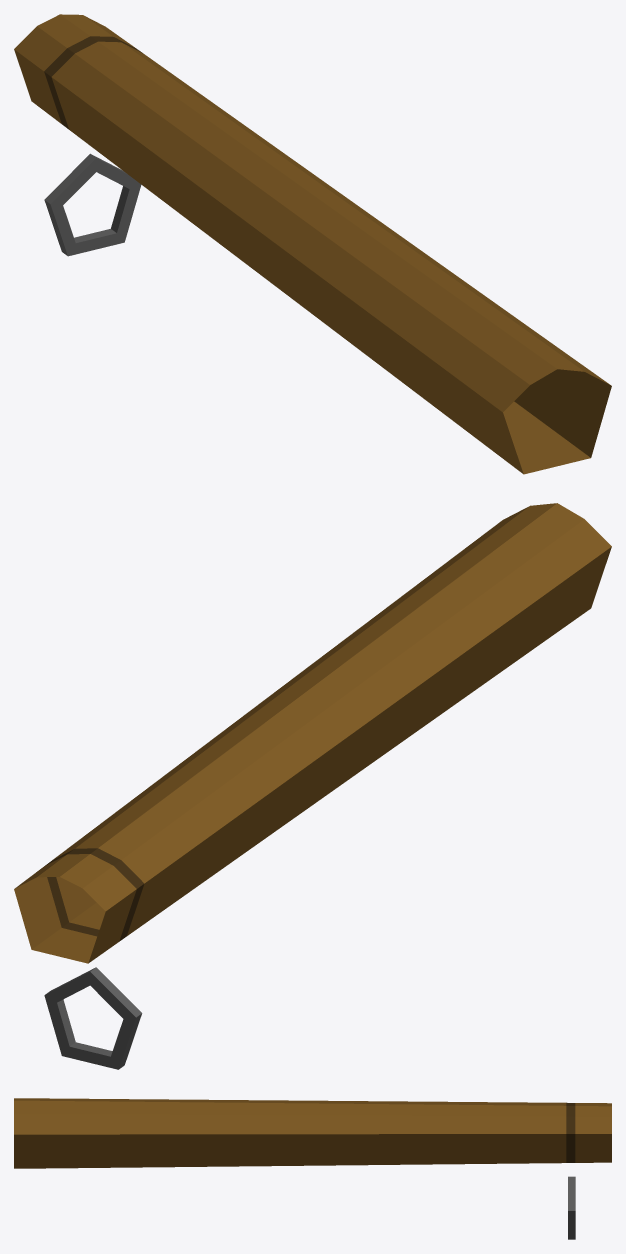
The model's file is Rodpart_03.fbx.
The picture shows the model from 3 angles, top to bottom: view 1: azimuth 30°, elevation 25°; view 2: azimuth 150°, elevation 25°; view 3: azimuth 270°, elevation 25°; orthographic projection. The views are drawn at different scales.
Parts seen in each view (by area): view 1: Rodpart_03; view 2: Rodpart_03; view 3: Rodpart_03.
Boxes of the visible parts, x1,y1,x2,y2 form: Rodpart_03: (14,14,611,474); Rodpart_03: (14,503,611,1069); Rodpart_03: (14,1098,611,1239).
Bounding box in the file's own units: 2.4 × 4.59 × 19.
